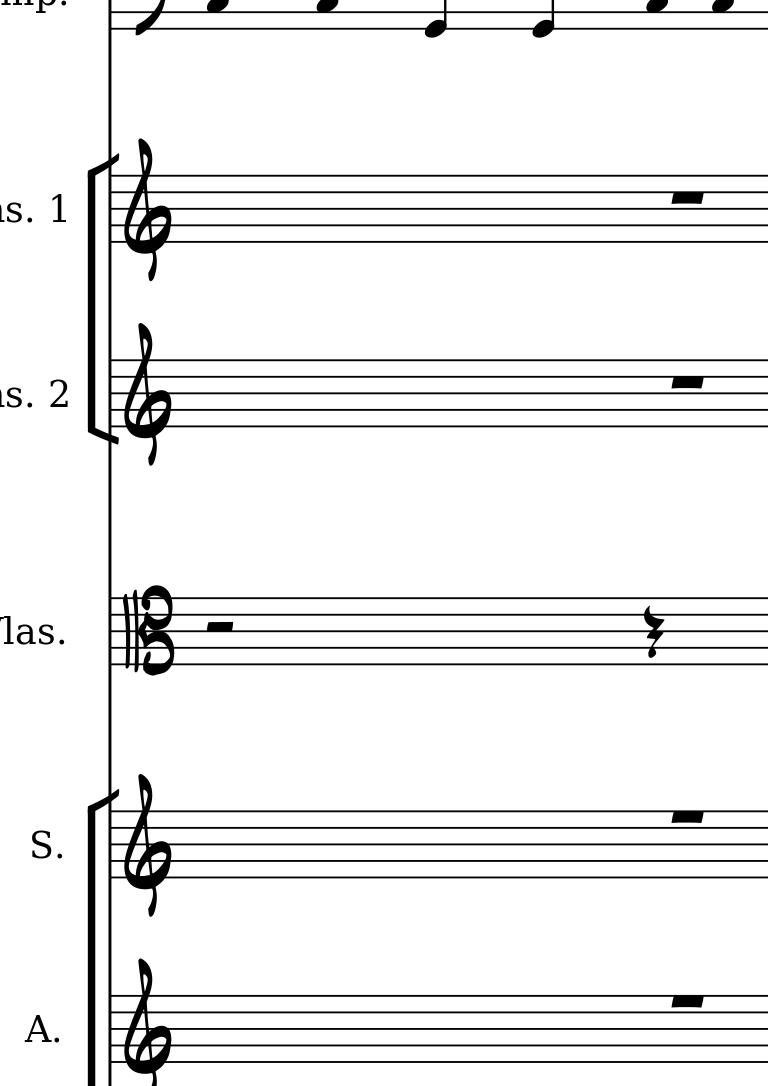Cclef: (121, 584, 174, 676)
Gclef: (118, 320, 175, 467), (119, 775, 175, 914), (125, 135, 172, 284), (121, 955, 174, 1086)
Rests1: (666, 371, 710, 392), (666, 187, 709, 208), (666, 991, 709, 1012), (666, 807, 709, 827)
Rests2: (202, 618, 238, 637)
Rests4: (642, 604, 665, 662)
Single_barline: (102, 996, 120, 1064), (103, 177, 120, 242), (103, 361, 119, 430), (102, 598, 118, 666), (103, 813, 119, 879)
